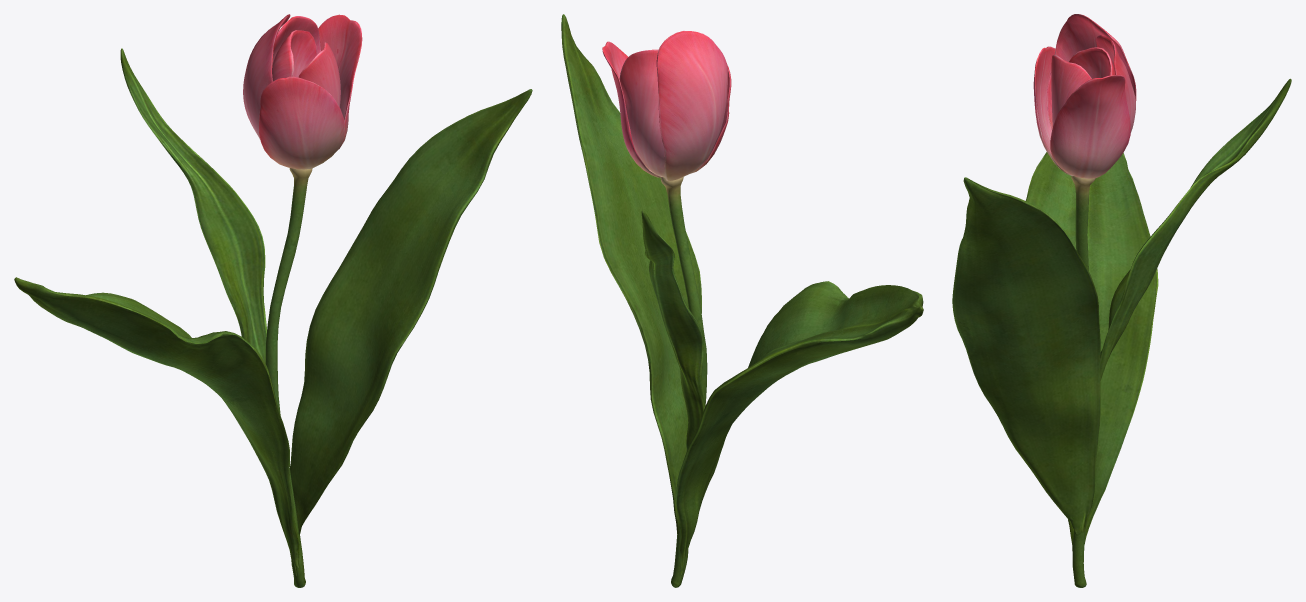
File: twinkle-butterfly-patio_tulip.glb
3 renders of one model, left to right at view 1: azimuth 30°, elevation 25°; view 2: azimuth 150°, elevation 25°; view 3: azimuth 270°, elevation 25°, orthographic. The views are drawn at different scales.
Parts seen in each view (by area): view 1: tulip.1_1; view 2: tulip.1_1; view 3: tulip.1_1.
Part boxes in pixels (x1=…): tulip.1_1: x1=14, y1=14, x2=532, y2=587; tulip.1_1: x1=561, y1=14, x2=923, y2=587; tulip.1_1: x1=952, y1=14, x2=1291, y2=587.
Size of the model in its own units: 0.0298 by 0.0367 by 0.02.
Materials: 1 (1 with a texture image).
